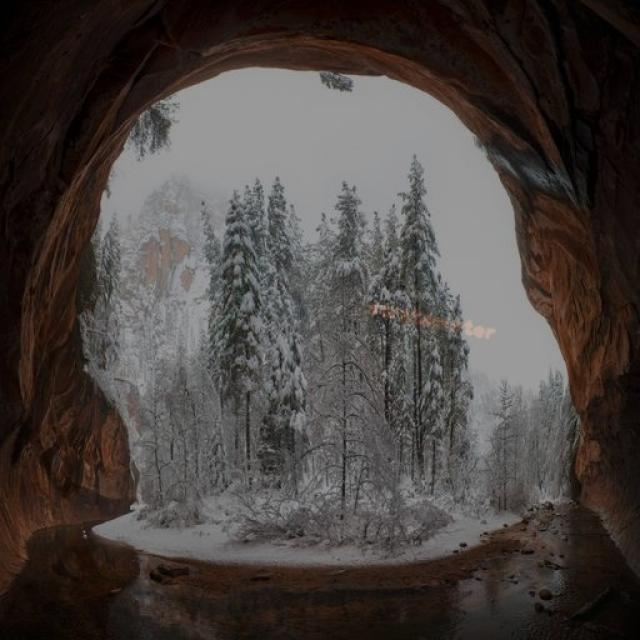watermark: (361, 298, 507, 342)
